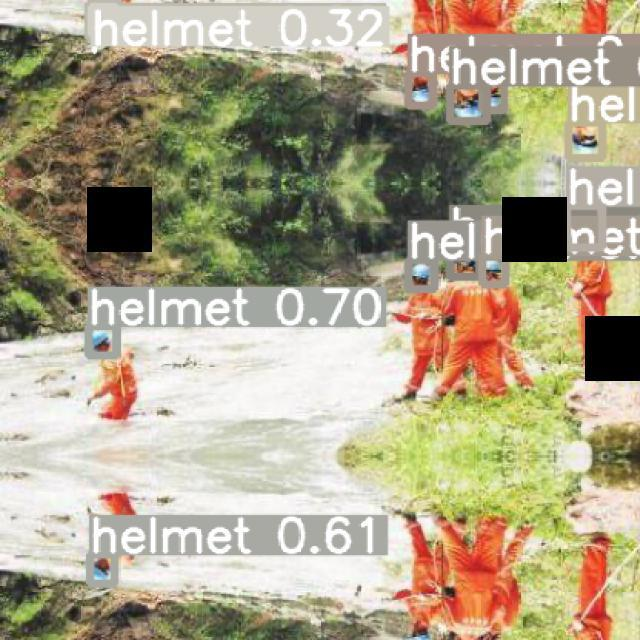helmet: (451, 78, 487, 128), (408, 259, 438, 292), (562, 135, 604, 158), (410, 73, 439, 105), (92, 548, 114, 588), (92, 328, 119, 358), (484, 257, 506, 283), (486, 94, 508, 115)
